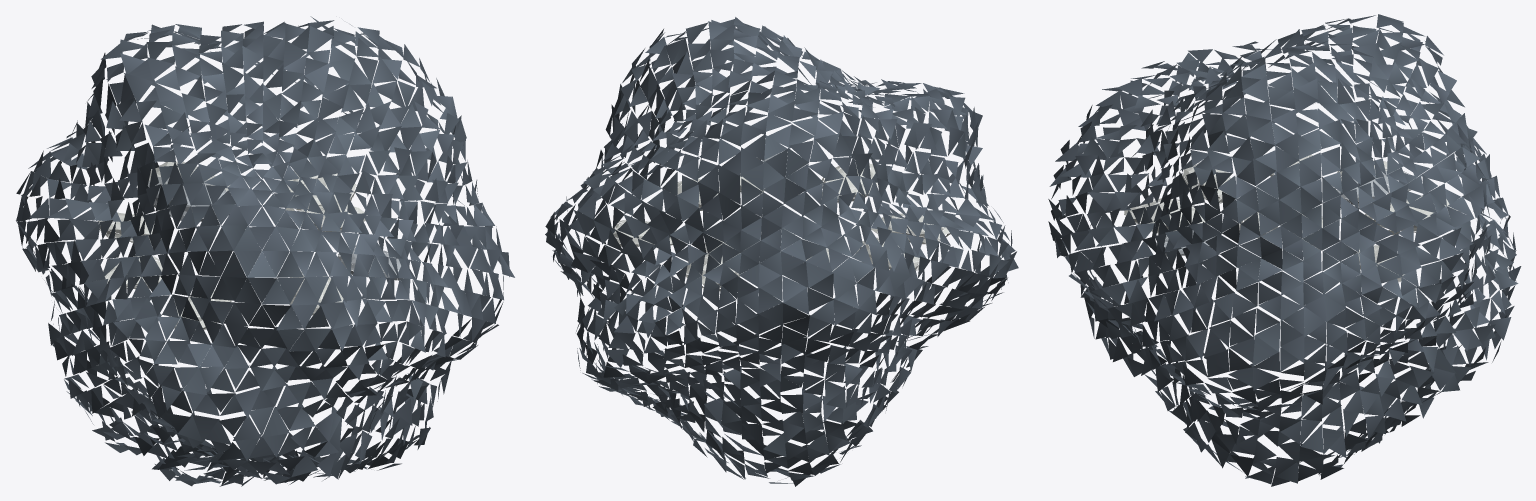
Rendered from mature-lod0.glb.
3 renders of one model, left to right at view 1: azimuth 30°, elevation 25°; view 2: azimuth 150°, elevation 25°; view 3: azimuth 270°, elevation 25°, orthographic. The views are drawn at different scales.
Visible parts, largest first — view 1: tin-host-rock, tin-mineral-seams; view 2: tin-host-rock, tin-mineral-seams; view 3: tin-host-rock, tin-mineral-seams.
Boxes of the visible parts, <box> form: tin-host-rock: <box>16,16,514,486</box>; tin-mineral-seams: <box>98,161,409,329</box>; tin-host-rock: <box>545,17,1018,486</box>; tin-mineral-seams: <box>613,152,950,291</box>; tin-host-rock: <box>1048,14,1521,486</box>; tin-mineral-seams: <box>1124,153,1460,282</box>.
Size of the model in its own units: 3.3 by 3.44 by 3.5.
